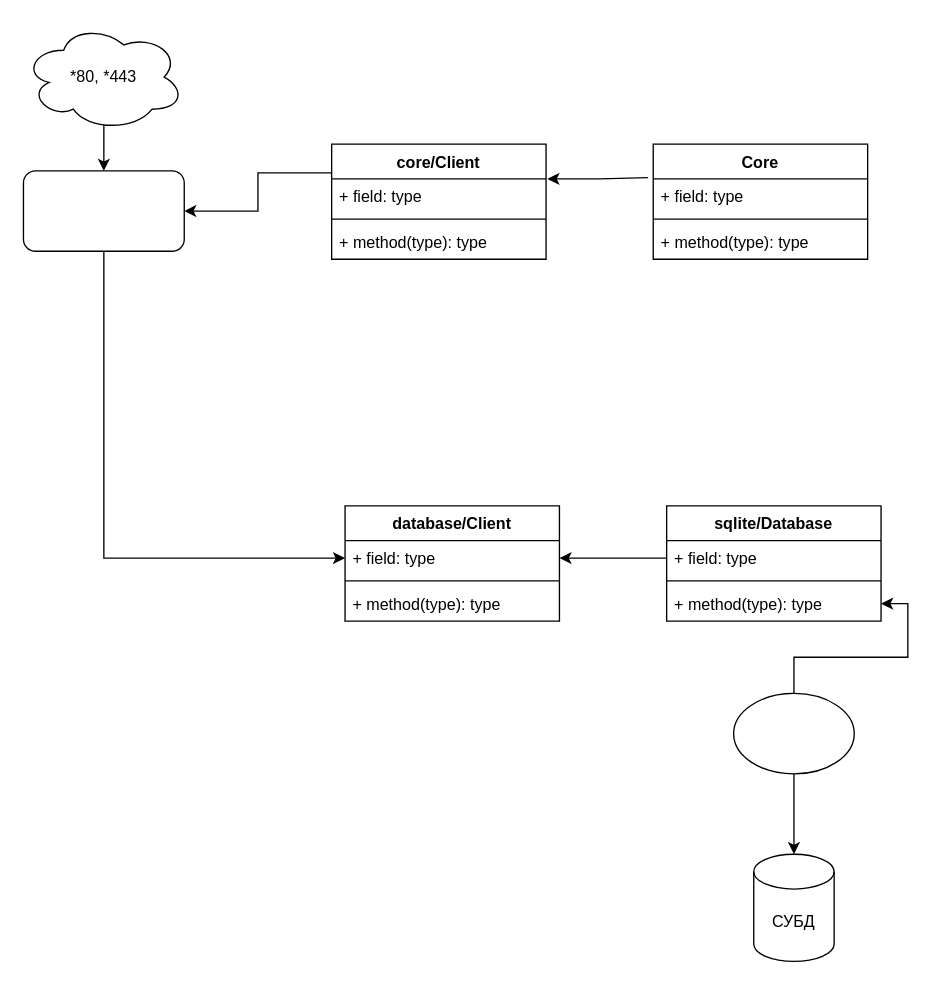
The diagram is 942 pixels wide and 985 high, and some of its shapes have lost their labels. Each missing label, with the centre of its shape:
"builtin/sqlite3" belongs at [793,733].
"nginx" belongs at [103,210].
